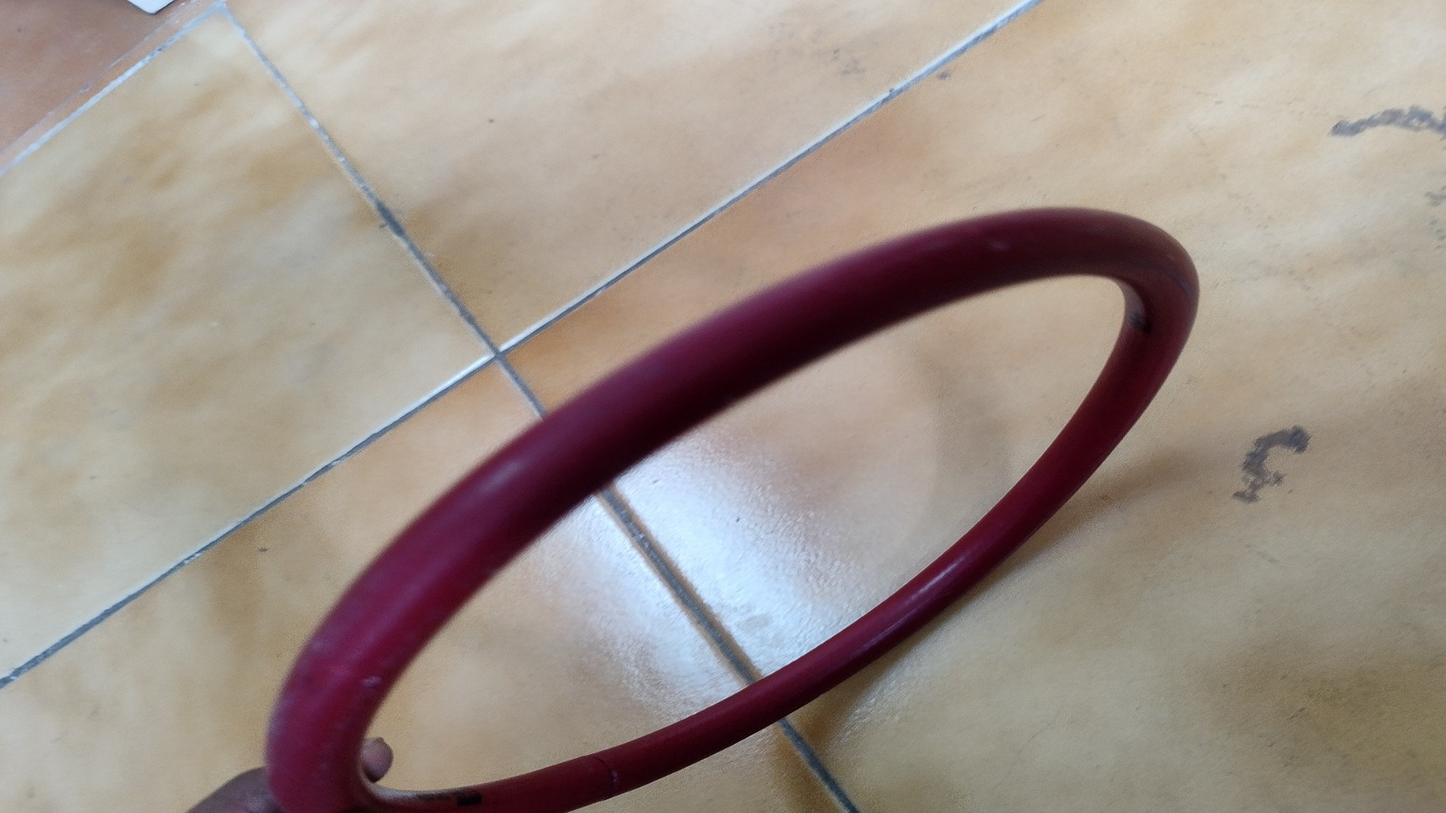Red ring: (288, 207, 1192, 803)
